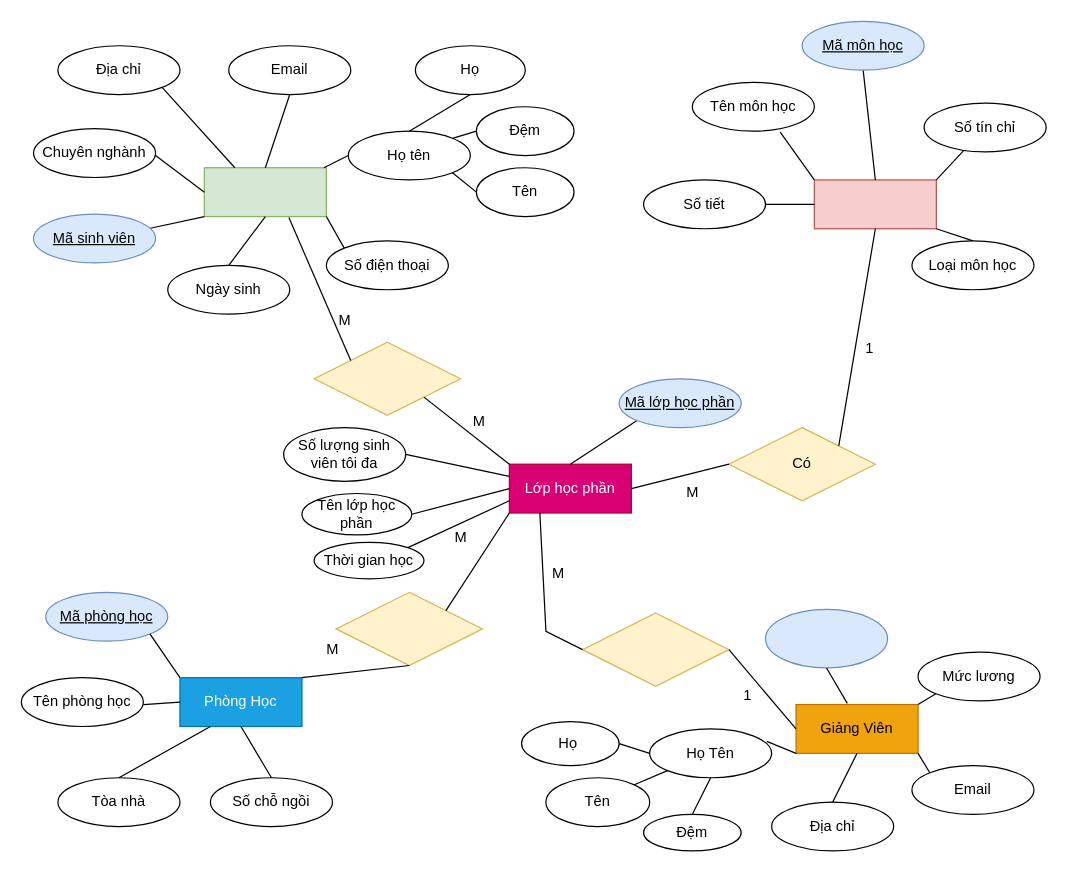
Image size: 1068x872. Some labels were removed from this diagram. The shapes that lost their labels are listed below. From the top down, each one's box as (x1, y1, x2, y2) in pixels, then its label:
(203, 167, 326, 217): Sinh Viên
(813, 179, 936, 229): Môn Học
(313, 341, 461, 415): Đăng ký
(335, 591, 483, 666): Sử dụng
(764, 608, 888, 668): Mã giảng viên
(581, 612, 729, 686): Dạy
